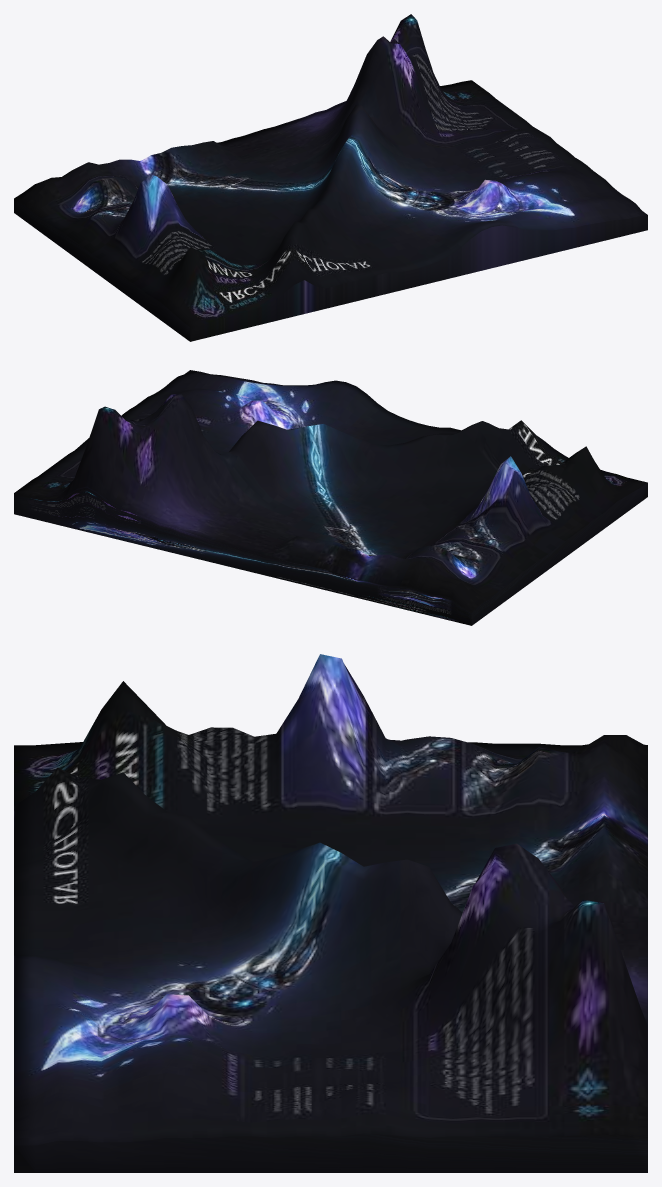
File: CAREER_11_Tool_02_Wand.glb
3 renders of one model, top to bottom at view 1: azimuth 30°, elevation 25°; view 2: azimuth 150°, elevation 25°; view 3: azimuth 270°, elevation 25°, orthographic. The views are drawn at different scales.
Visible parts, largest first — view 1: CAREER_11_Tool_02_Wand; view 2: CAREER_11_Tool_02_Wand; view 3: CAREER_11_Tool_02_Wand.
Part boxes in pixels (x1,y1,x2,y2): CAREER_11_Tool_02_Wand: (14,14,647,341); CAREER_11_Tool_02_Wand: (14,370,647,625); CAREER_11_Tool_02_Wand: (14,654,647,1172).
Bounding box in the file's own units: 2 × 0.51 × 1.33.
Materials: 1 (1 with a texture image).
